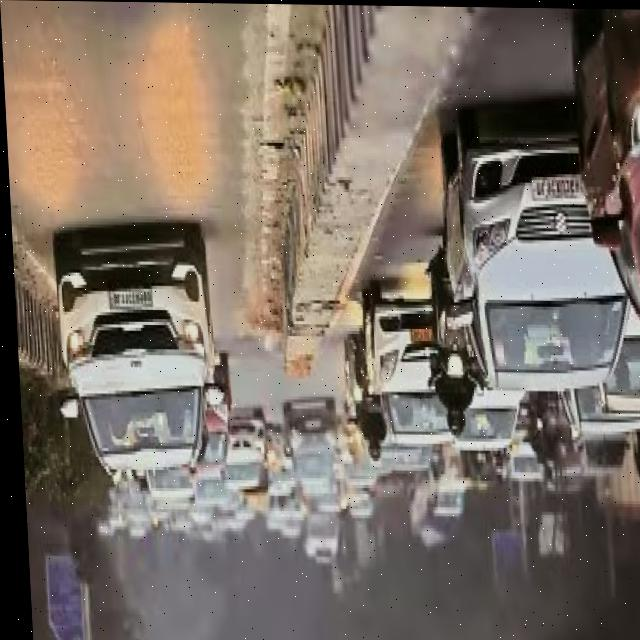plate: (525, 168, 582, 203), (103, 282, 151, 314)
